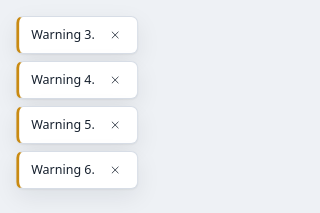
toasts › shows the four most recent and brings the older ones back as they clear
Expected: the text "Warning 6." is shown, 31,161 -> 95,179
Note: Nothing is lost, only queued: clearing one uncovers the next oldest.
Click the button named "Dismiss" next to "Warning 6.": (115, 170) 105,160 -> 125,180
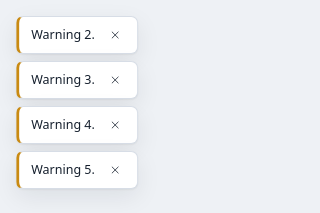
Result: the text "Warning 6." is gone
Result: the text "Warning 2." is shown at 31,26 -> 95,44
